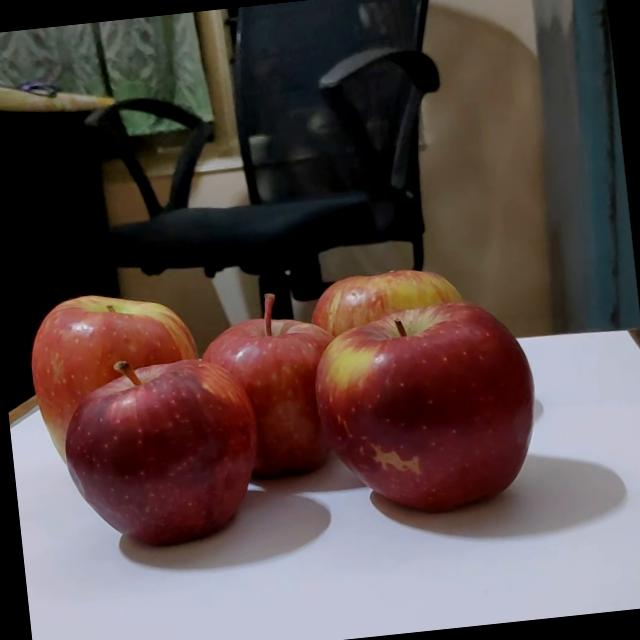apple: (290, 288, 540, 522), (39, 350, 252, 552), (184, 280, 354, 482), (16, 279, 201, 452), (296, 254, 480, 396)
